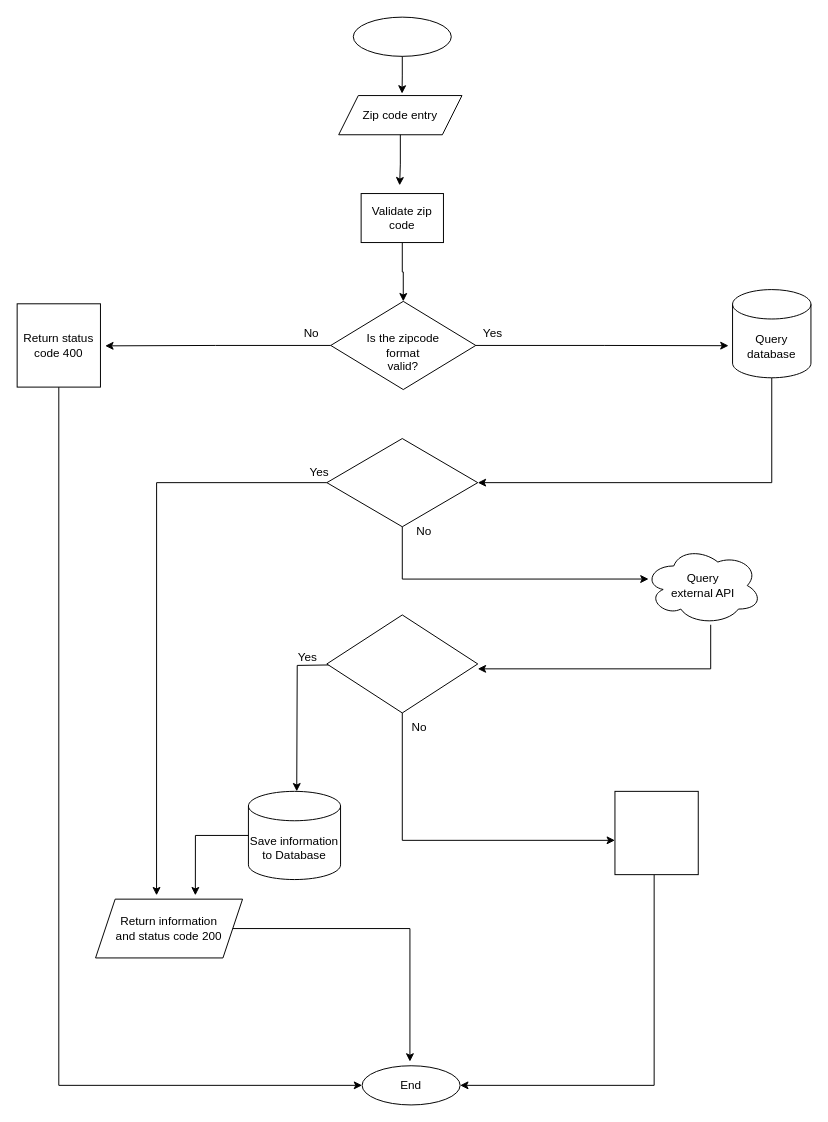
Image size: 828x1122. Some labels were removed from this diagram. The shapes that lost their labels are listed below. From the top down, each one's box as (x1, y1, x2, y2) in pixels, then its label:
(352, 16, 451, 56): Start
(326, 438, 478, 527): Is it present in the DB?
(326, 614, 478, 713): Did it find the zipcode in the API?
(614, 790, 698, 875): Return status code 404
